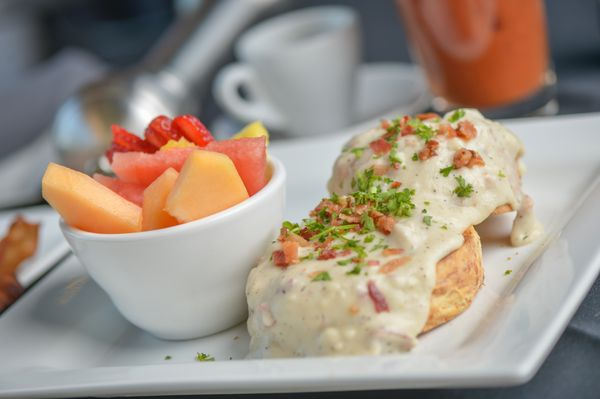pizza: (213, 3, 368, 138), (393, 1, 560, 119)
steak: (166, 149, 250, 226), (206, 137, 269, 196)
sushi: (45, 114, 288, 342)
